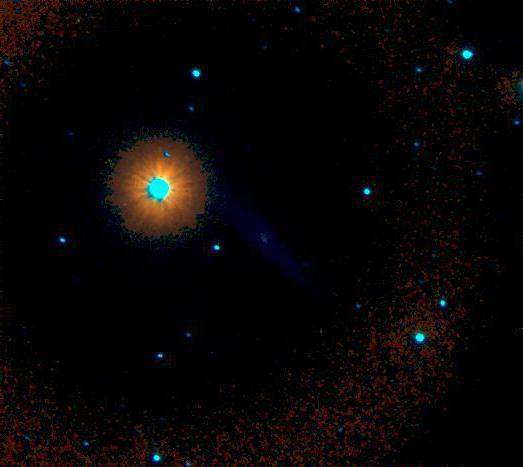star: (109, 190, 139, 220)
